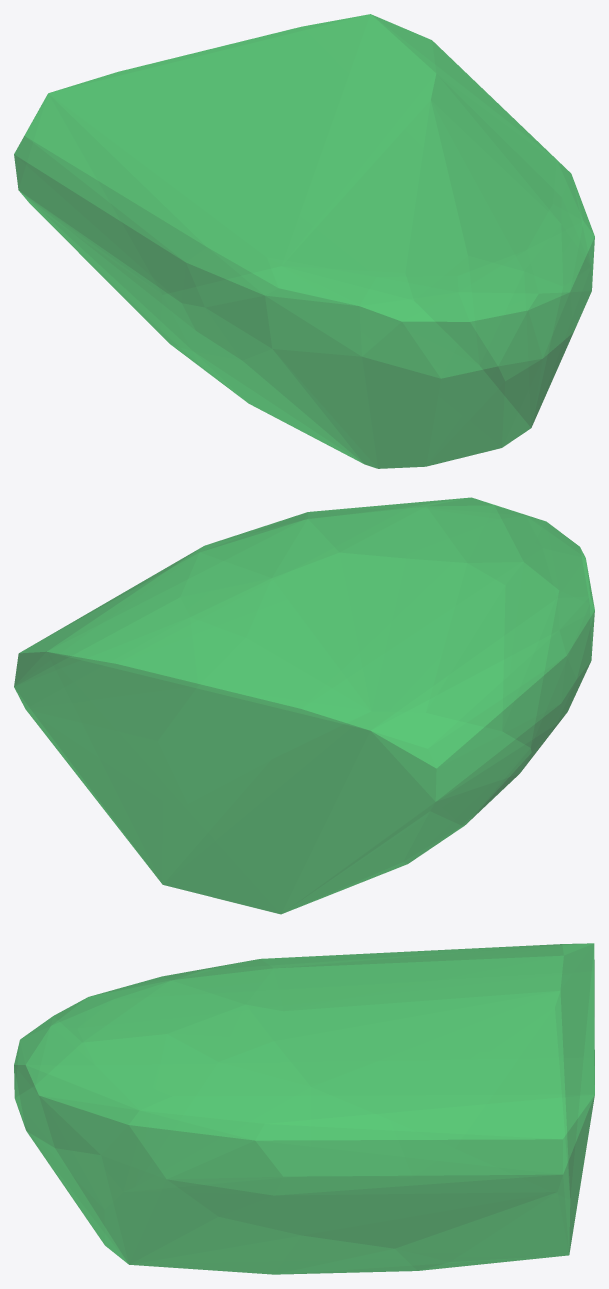
3 views of the same model, one above another, from view 1: azimuth 30°, elevation 25°; view 2: azimuth 150°, elevation 25°; view 3: azimuth 270°, elevation 25° (orthographic). The views are drawn at different scales.
Parts seen in each view (by area): view 1: Shape_IndexedFaceSet.001_Shape_IndexedFaceSet.5728; view 2: Shape_IndexedFaceSet.001_Shape_IndexedFaceSet.5728; view 3: Shape_IndexedFaceSet.001_Shape_IndexedFaceSet.5728.
Boxes of the visible parts, box(x1,y1,x2,y2) form: Shape_IndexedFaceSet.001_Shape_IndexedFaceSet.5728: box(14, 14, 594, 468); Shape_IndexedFaceSet.001_Shape_IndexedFaceSet.5728: box(14, 497, 594, 914); Shape_IndexedFaceSet.001_Shape_IndexedFaceSet.5728: box(14, 943, 594, 1274).
Bounding box in the file's own units: 0.8731 × 0.4393 × 1.08.
